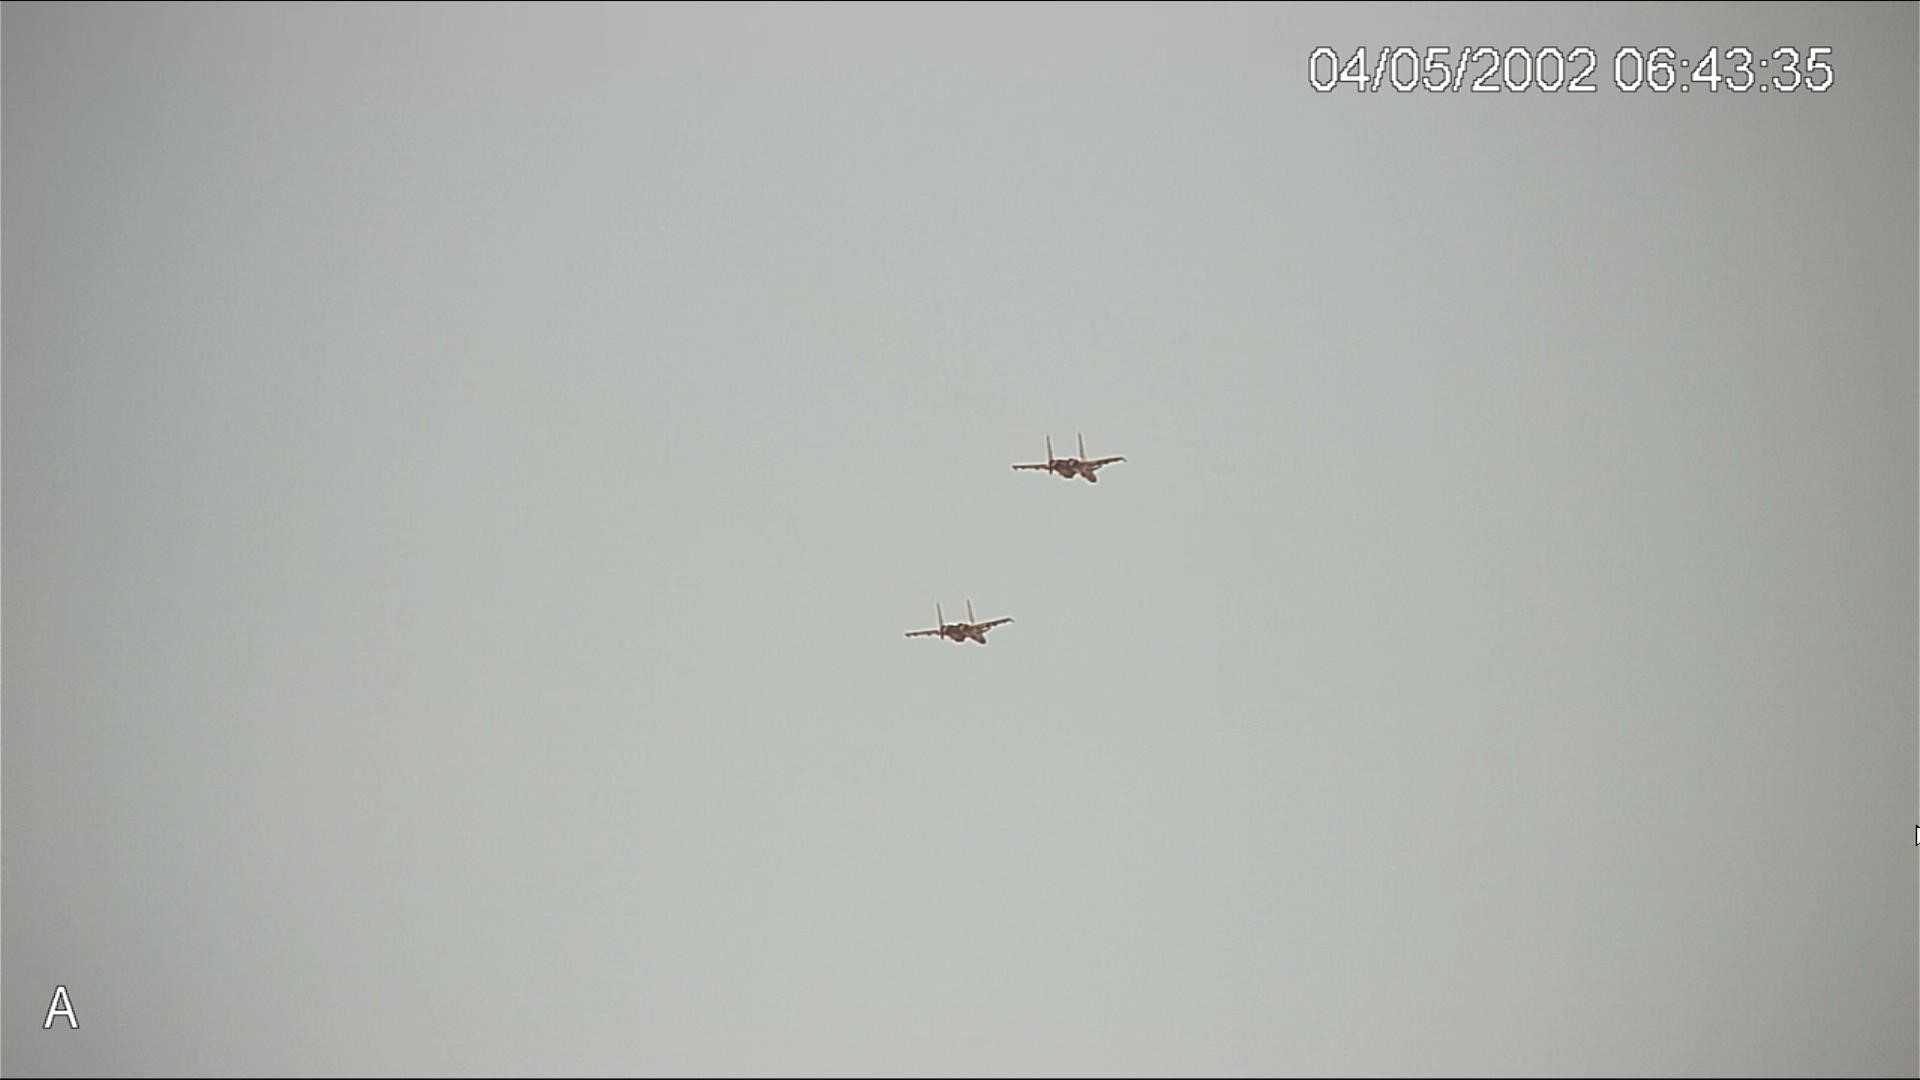SU_30: (903, 596, 1026, 653), (1015, 431, 1137, 488)
